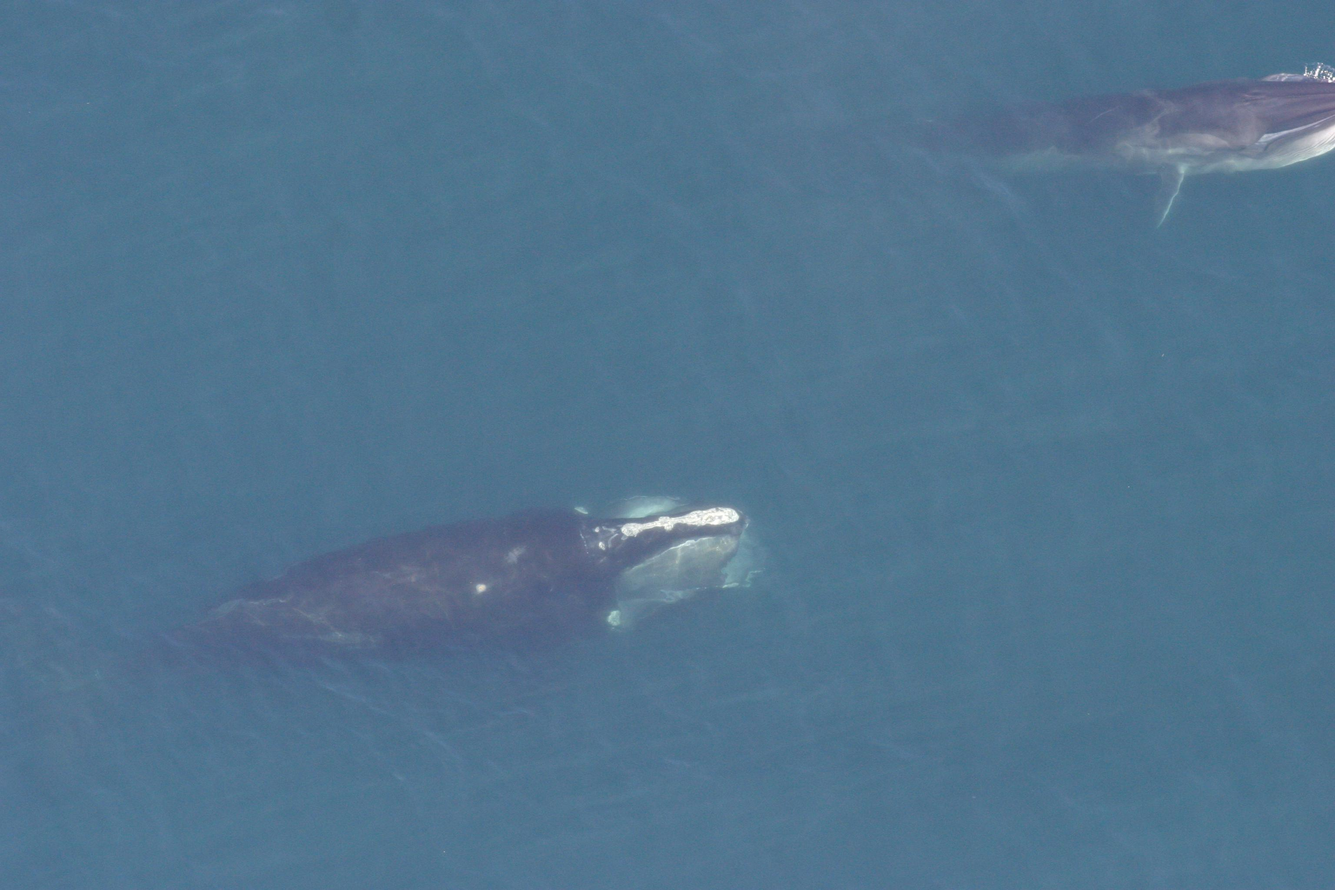whale: (80, 485, 775, 759), (840, 67, 1335, 231)
